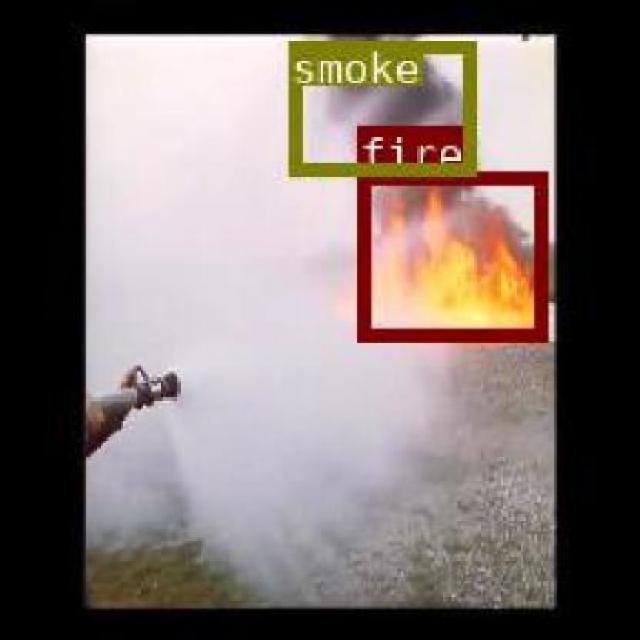Fire: (356, 168, 544, 340)
Smoke: (287, 38, 473, 174)
